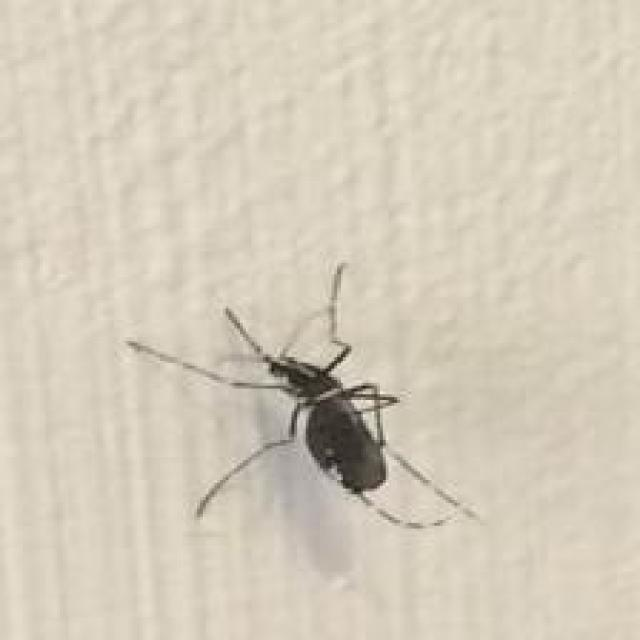Aedes albopictus: (124, 260, 482, 531)
